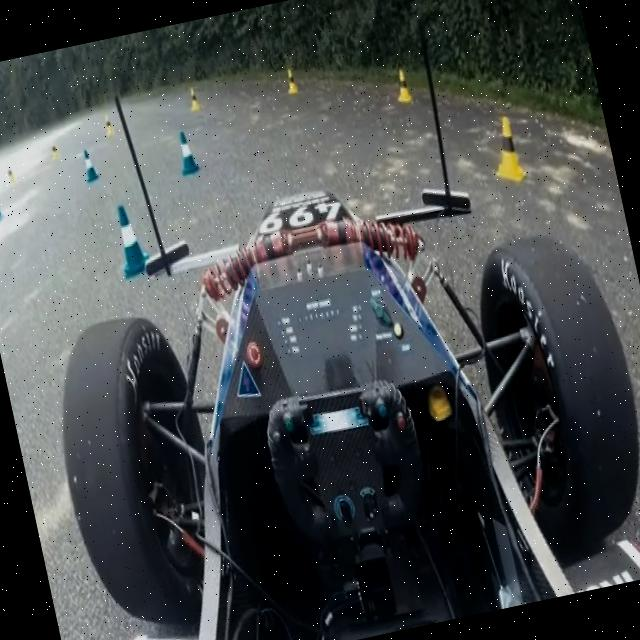blue_cone: (100, 195, 154, 279), (160, 106, 208, 190), (74, 141, 105, 187), (0, 178, 11, 231)
yellow_cone: (482, 103, 536, 194), (382, 46, 424, 110), (276, 48, 304, 102)
